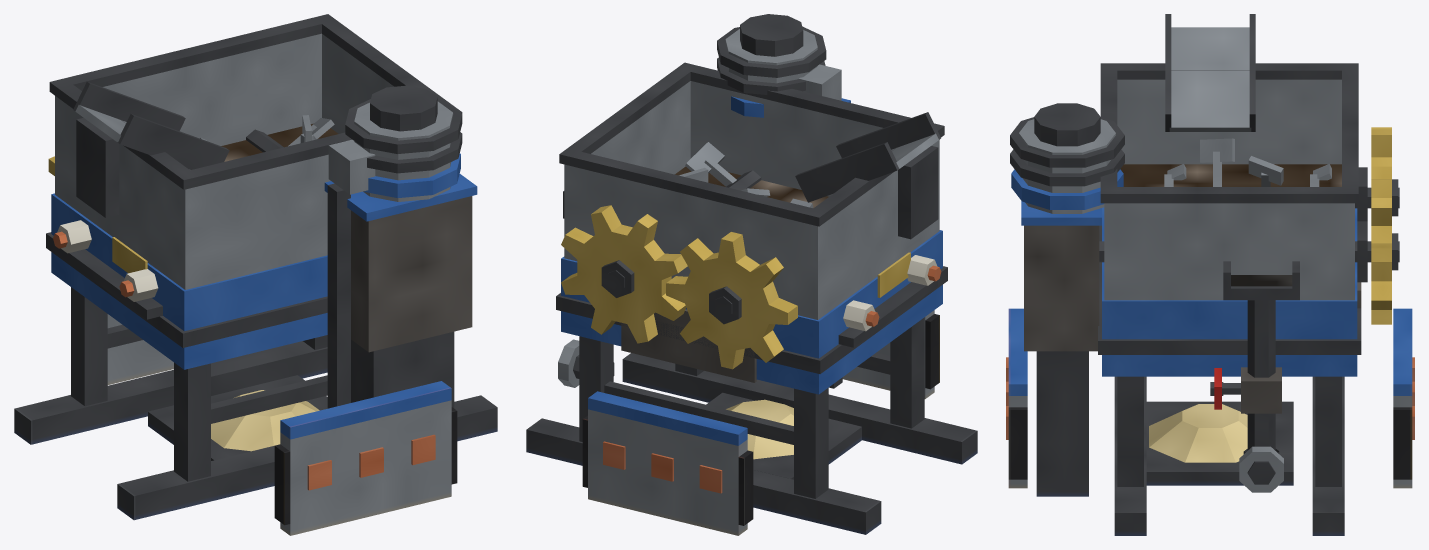
File: tarsandseparator200v.obj
3 views of the same model, side by side, from view 1: azimuth 30°, elevation 25°; view 2: azimuth 150°, elevation 25°; view 3: azimuth 270°, elevation 25° (orthographic). The views are drawn at different scales.
Visible parts, largest first — view 1: main, rot2; view 2: main, rot2, rot1; view 3: main, rot1, rot2.
Part boxes in pixels (<box>): main: <box>14,14,497,535</box>; rot2: <box>246,115,334,152</box>; main: <box>526,14,977,535</box>; rot2: <box>561,142,770,343</box>; rot1: <box>666,198,813,369</box>; main: <box>1006,14,1414,535</box>; rot1: <box>1164,127,1399,216</box>; rot2: <box>1099,179,1399,324</box>.
Size of the model in its own units: 0.9875 by 0.9819 by 1.
Materials: 1 (1 with a texture image).
